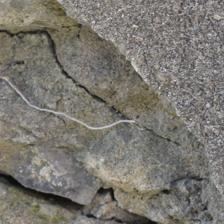Crack: (40, 48, 107, 175), (95, 24, 191, 82), (0, 69, 72, 108)
